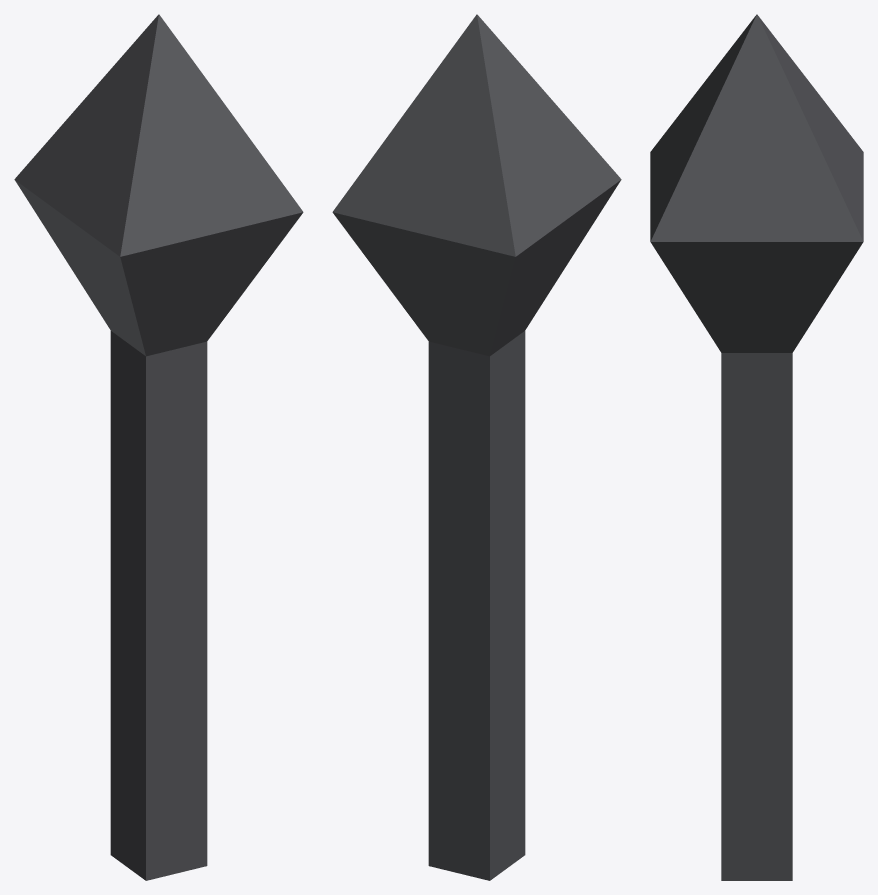
File: toit details.FBX
The picture shows the model from 3 angles, left to right: view 1: azimuth 30°, elevation 25°; view 2: azimuth 150°, elevation 25°; view 3: azimuth 270°, elevation 25°; orthographic projection.
Visible parts, largest first — view 1: toit details; view 2: toit details; view 3: toit details.
Boxes of the visible parts, left/top/right/bottom form: toit details: left=14, top=14, right=303, bottom=880; toit details: left=332, top=14, right=621, bottom=880; toit details: left=650, top=14, right=863, bottom=880.
Size of the model in its own units: 12 by 52.94 by 12.
Materials: 1 (1 with a texture image).
